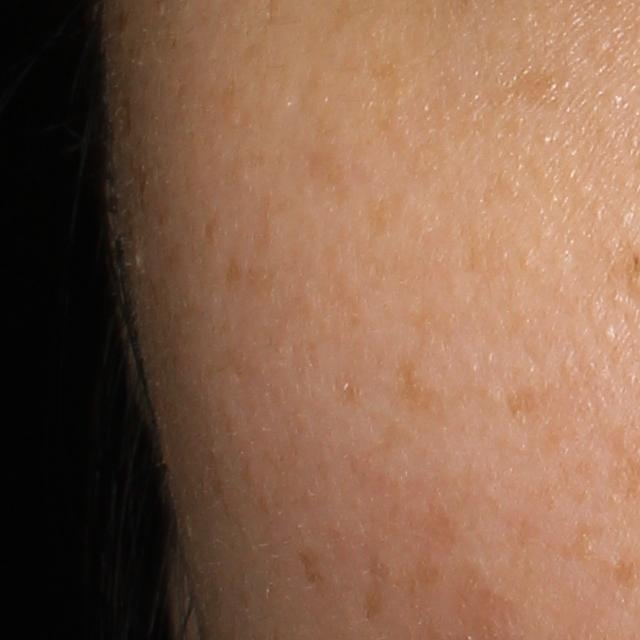melasma: (365, 45, 413, 158), (500, 67, 570, 112), (493, 378, 555, 428), (390, 356, 443, 414), (363, 558, 396, 619), (216, 252, 250, 291), (293, 550, 321, 594), (203, 217, 220, 248)
